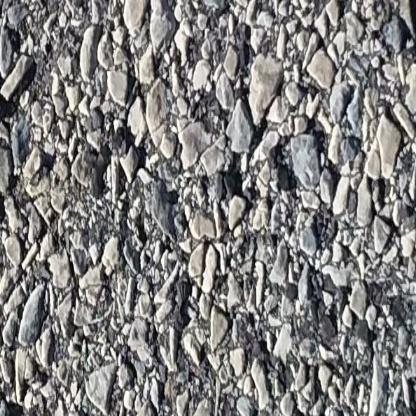Cracks: (398, 0, 416, 92)
